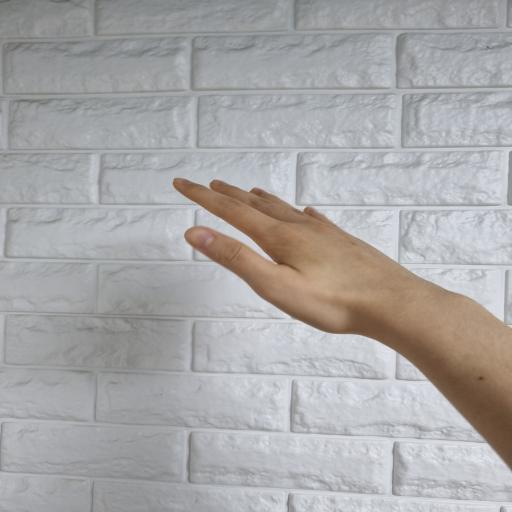Paper: (172, 177, 512, 472)
